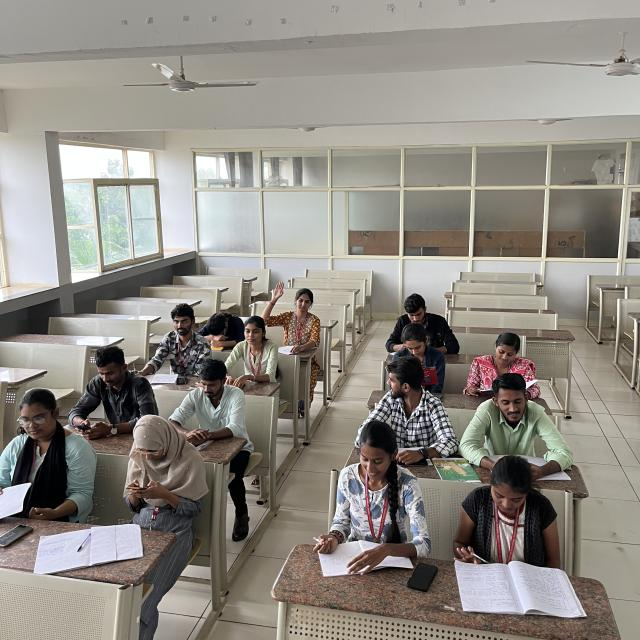Hand Rising: (258, 275, 372, 385)
Reading: (461, 468, 586, 610), (458, 374, 593, 485), (0, 380, 89, 545), (321, 415, 413, 572), (176, 365, 262, 455), (472, 326, 570, 401), (370, 328, 470, 394)
Using Phone: (117, 416, 221, 536), (72, 333, 153, 434), (376, 287, 472, 366)
